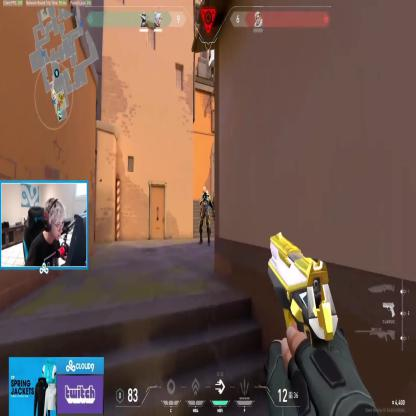enemy: (199, 186, 211, 246)
enemy_head: (202, 186, 207, 196)
